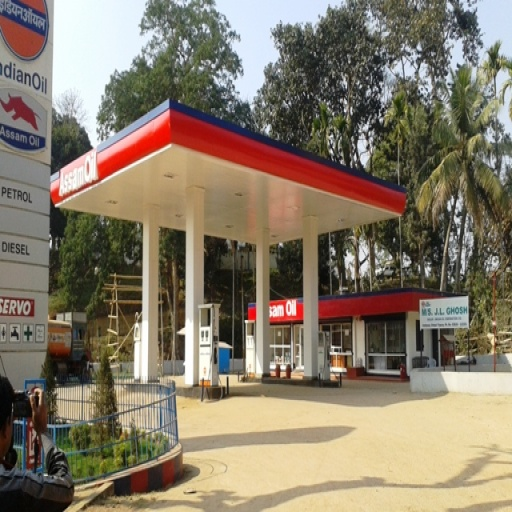roof: (57, 100, 406, 249)
